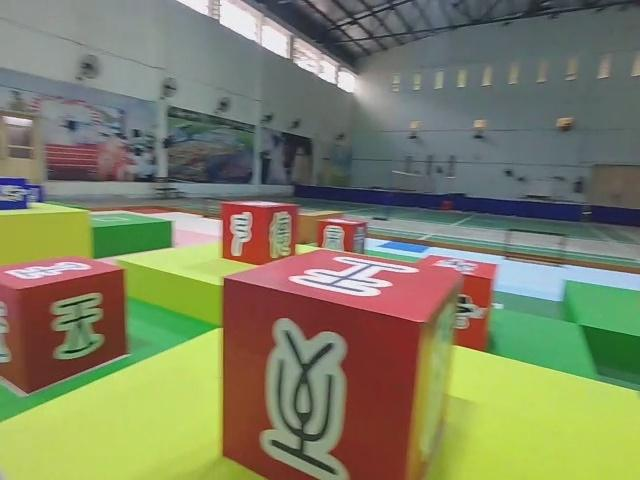R1: (404, 252, 498, 360)
R2 Fake: (223, 249, 462, 480), (221, 200, 298, 265), (318, 216, 366, 262)
R2 Real: (0, 254, 130, 394)
